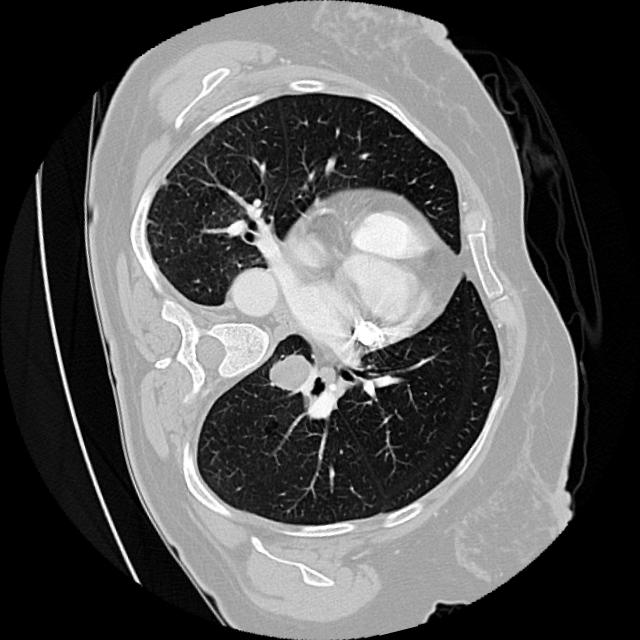nodule: (242, 323, 341, 422)
